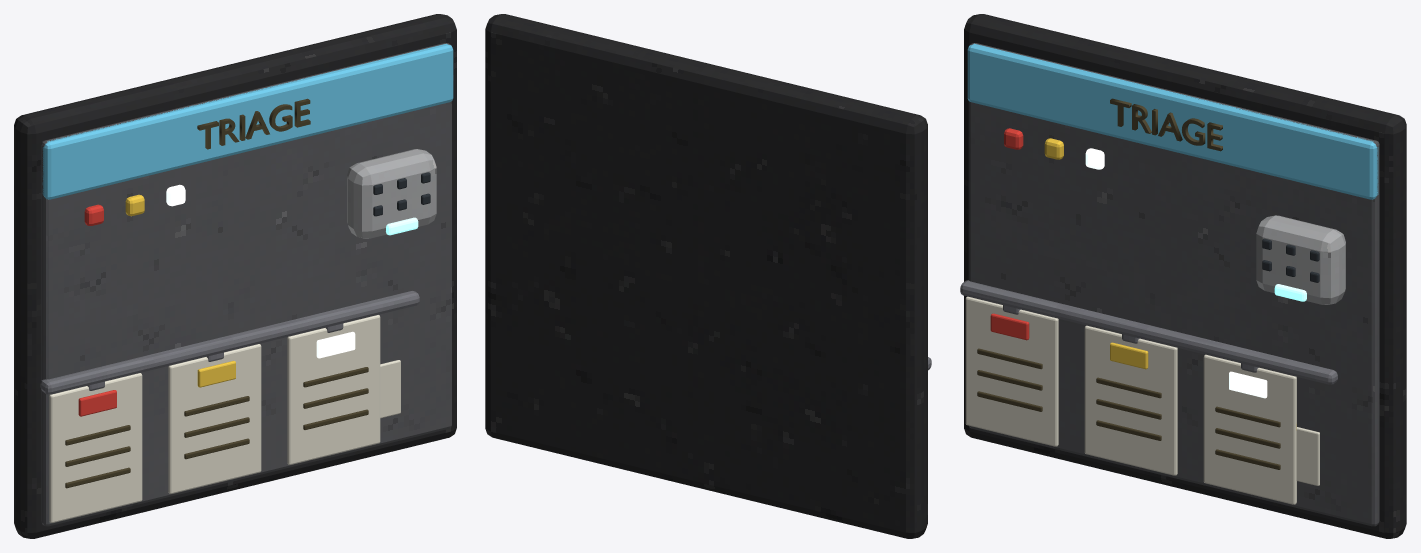
File: decor_med_triage_board.glb
The picture shows the model from 3 angles, left to right: view 1: azimuth 30°, elevation 25°; view 2: azimuth 150°, elevation 25°; view 3: azimuth 330°, elevation 25°; orthographic projection.
Visible parts, largest first — view 1: DEC_MedTriageBoard__Board_Face, DEC_MedTriageBoard__Board_Back, DEC_MedTriageBoard__Triage_Header, DEC_MedTriageBoard__Patient_Chart_1, DEC_MedTriageBoard__Patient_Chart_3, DEC_MedTriageBoard__Patient_Chart_2, DEC_MedTriageBoard__Chart_Rail, DEC_MedTriageBoard__Intercom, DEC_MedTriageBoard__Triage_Title, DEC_MedTriageBoard__Shift_Note, DEC_MedTriageBoard__Triage_Tag_3, DEC_MedTriageBoard__Triage_Tag_1 (+1 smaller); view 2: DEC_MedTriageBoard__Board_Back; view 3: DEC_MedTriageBoard__Board_Face, DEC_MedTriageBoard__Board_Back, DEC_MedTriageBoard__Triage_Header, DEC_MedTriageBoard__Patient_Chart_2, DEC_MedTriageBoard__Patient_Chart_1, DEC_MedTriageBoard__Patient_Chart_3, DEC_MedTriageBoard__Chart_Rail, DEC_MedTriageBoard__Intercom, DEC_MedTriageBoard__Triage_Title, DEC_MedTriageBoard__Shift_Note, DEC_MedTriageBoard__Triage_Tag_1, DEC_MedTriageBoard__Triage_Tag_2 (+1 smaller).
Part boxes in pixels (x1,y1,x2,y2): DEC_MedTriageBoard__Board_Face: (41, 43, 451, 526); DEC_MedTriageBoard__Board_Back: (14, 14, 456, 538); DEC_MedTriageBoard__Triage_Header: (42, 43, 453, 199); DEC_MedTriageBoard__Patient_Chart_1: (49, 373, 142, 522); DEC_MedTriageBoard__Patient_Chart_3: (287, 315, 380, 464); DEC_MedTriageBoard__Patient_Chart_2: (168, 344, 261, 493); DEC_MedTriageBoard__Chart_Rail: (40, 291, 419, 394); DEC_MedTriageBoard__Intercom: (347, 149, 436, 238); DEC_MedTriageBoard__Triage_Title: (197, 98, 310, 149); DEC_MedTriageBoard__Shift_Note: (380, 360, 400, 418); DEC_MedTriageBoard__Triage_Tag_3: (316, 331, 355, 358); DEC_MedTriageBoard__Triage_Tag_1: (78, 390, 116, 416); DEC_MedTriageBoard__Board_Back: (485, 14, 927, 538); DEC_MedTriageBoard__Board_Face: (968, 43, 1379, 526); DEC_MedTriageBoard__Board_Back: (964, 14, 1406, 538); DEC_MedTriageBoard__Triage_Header: (967, 43, 1378, 199); DEC_MedTriageBoard__Patient_Chart_2: (1084, 325, 1177, 475); DEC_MedTriageBoard__Patient_Chart_1: (965, 296, 1058, 446); DEC_MedTriageBoard__Patient_Chart_3: (1203, 354, 1296, 504); DEC_MedTriageBoard__Chart_Rail: (960, 280, 1337, 384); DEC_MedTriageBoard__Intercom: (1256, 215, 1345, 304); DEC_MedTriageBoard__Triage_Title: (1110, 98, 1222, 151); DEC_MedTriageBoard__Shift_Note: (1296, 427, 1319, 485); DEC_MedTriageBoard__Triage_Tag_1: (990, 313, 1029, 340); DEC_MedTriageBoard__Triage_Tag_2: (1110, 342, 1148, 369).
Size of the model in its own units: 1.28 by 1.18 by 0.2075.
13 materials, 4 textured.
